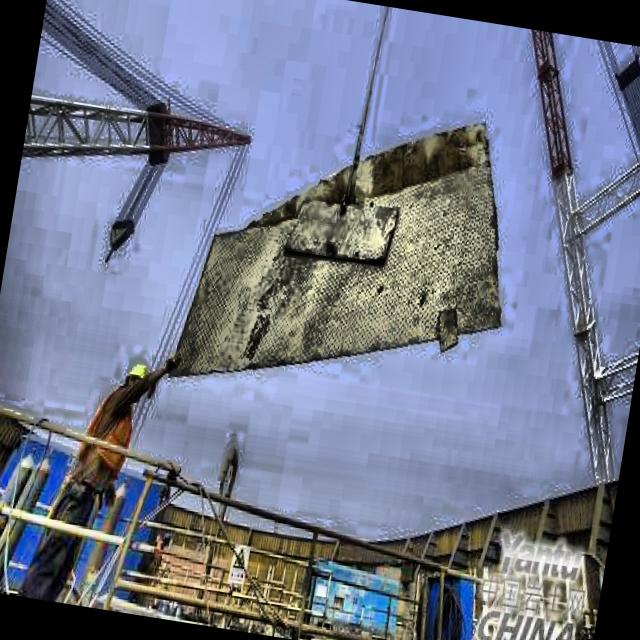helmet: (119, 358, 155, 409)
